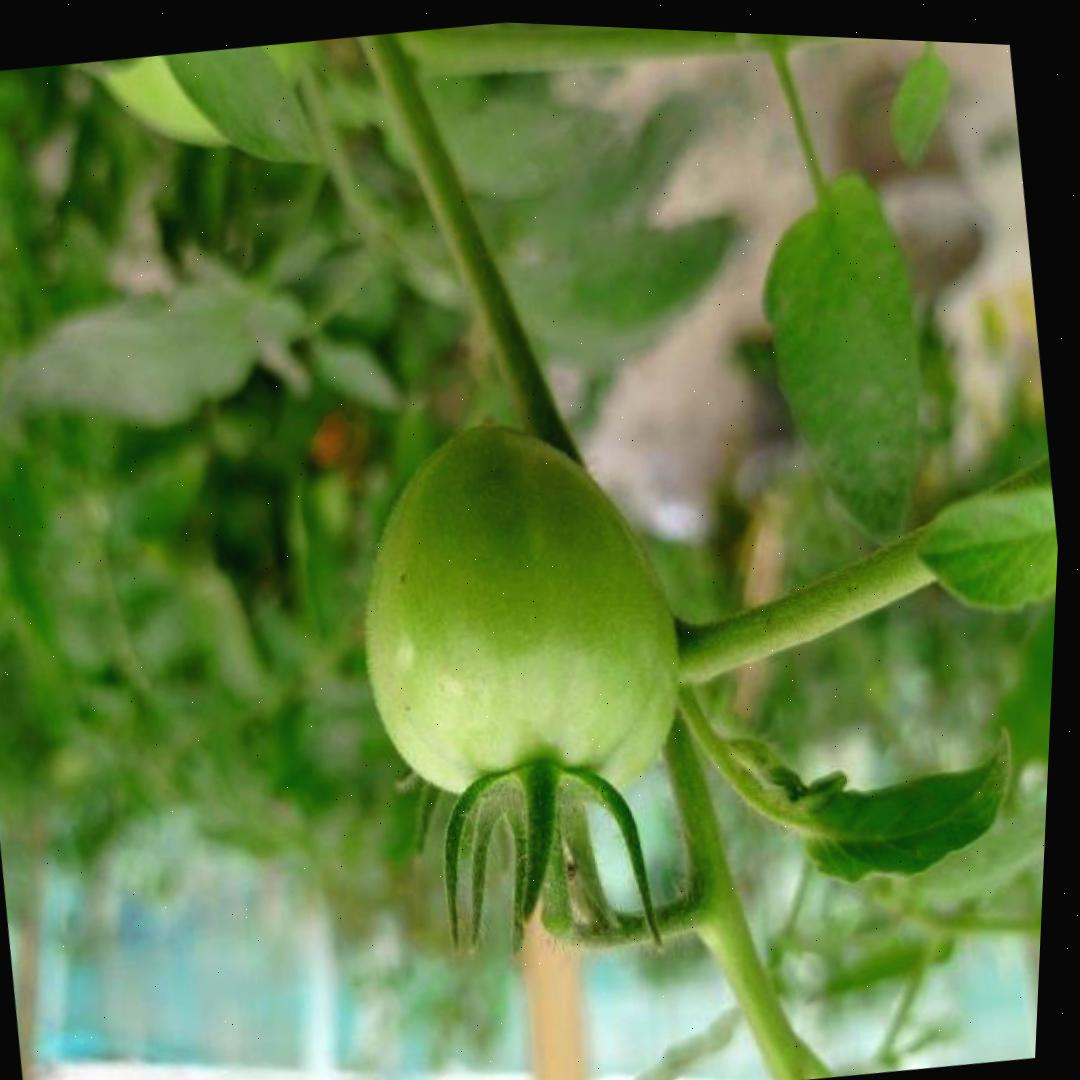mentah: (324, 393, 710, 837)
